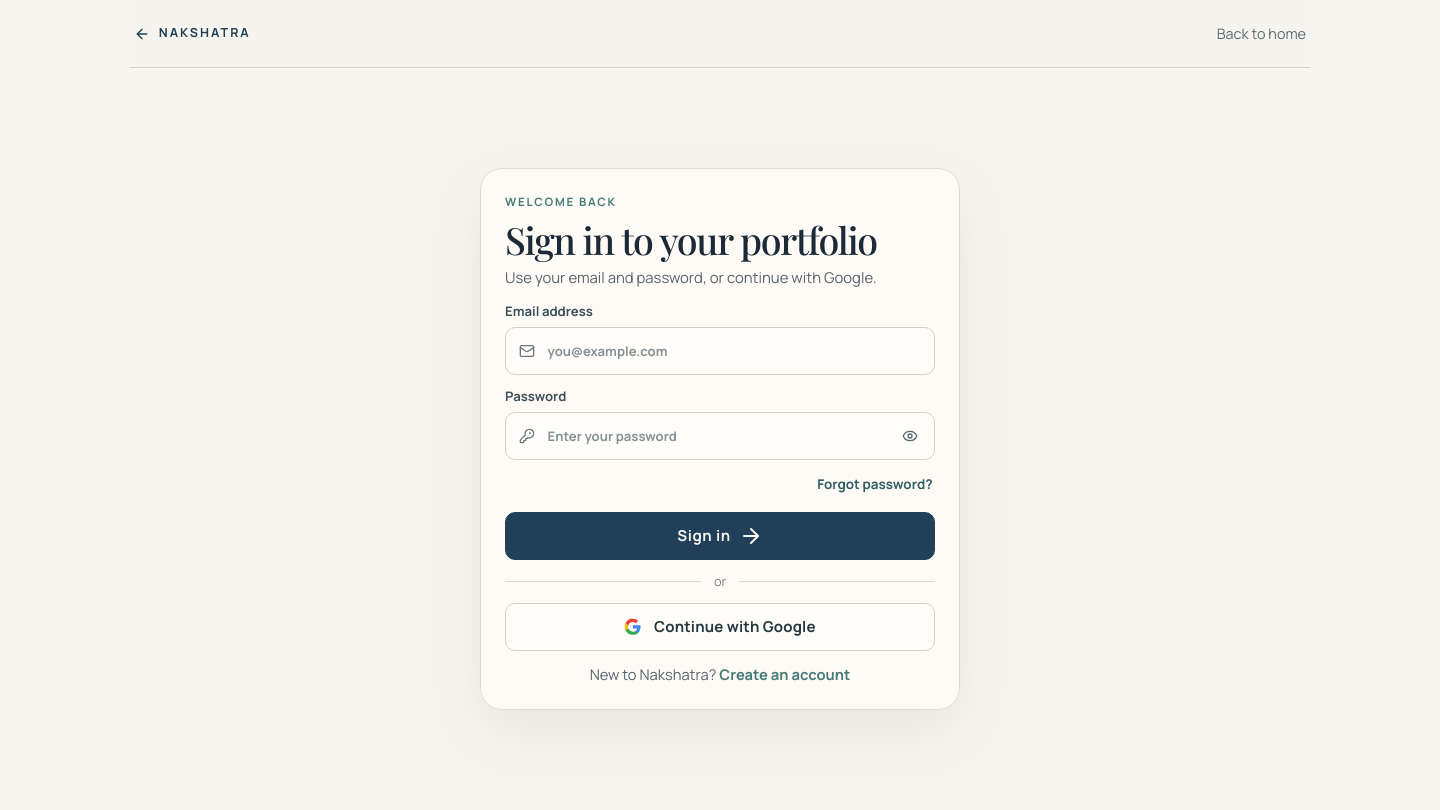
Test: AuthForm › requests password recovery without revealing whether an account exists
Click the button "Forgot password?".
click(875, 484)  # box [815, 468, 935, 500]
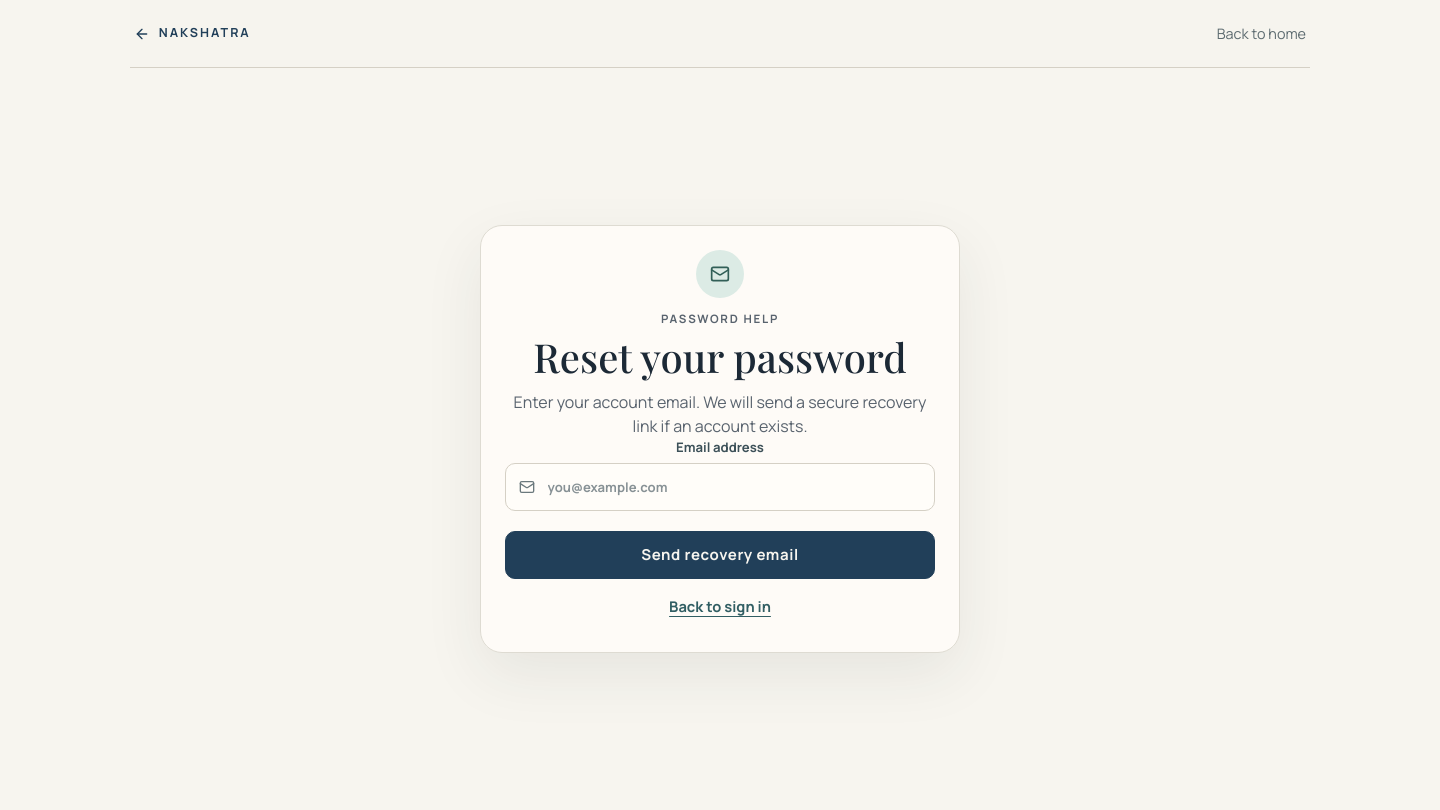
Type "owner@example.com" into the field labelled "Email address".
click(720, 487); type("owner@example.com")  # box [505, 463, 935, 511]
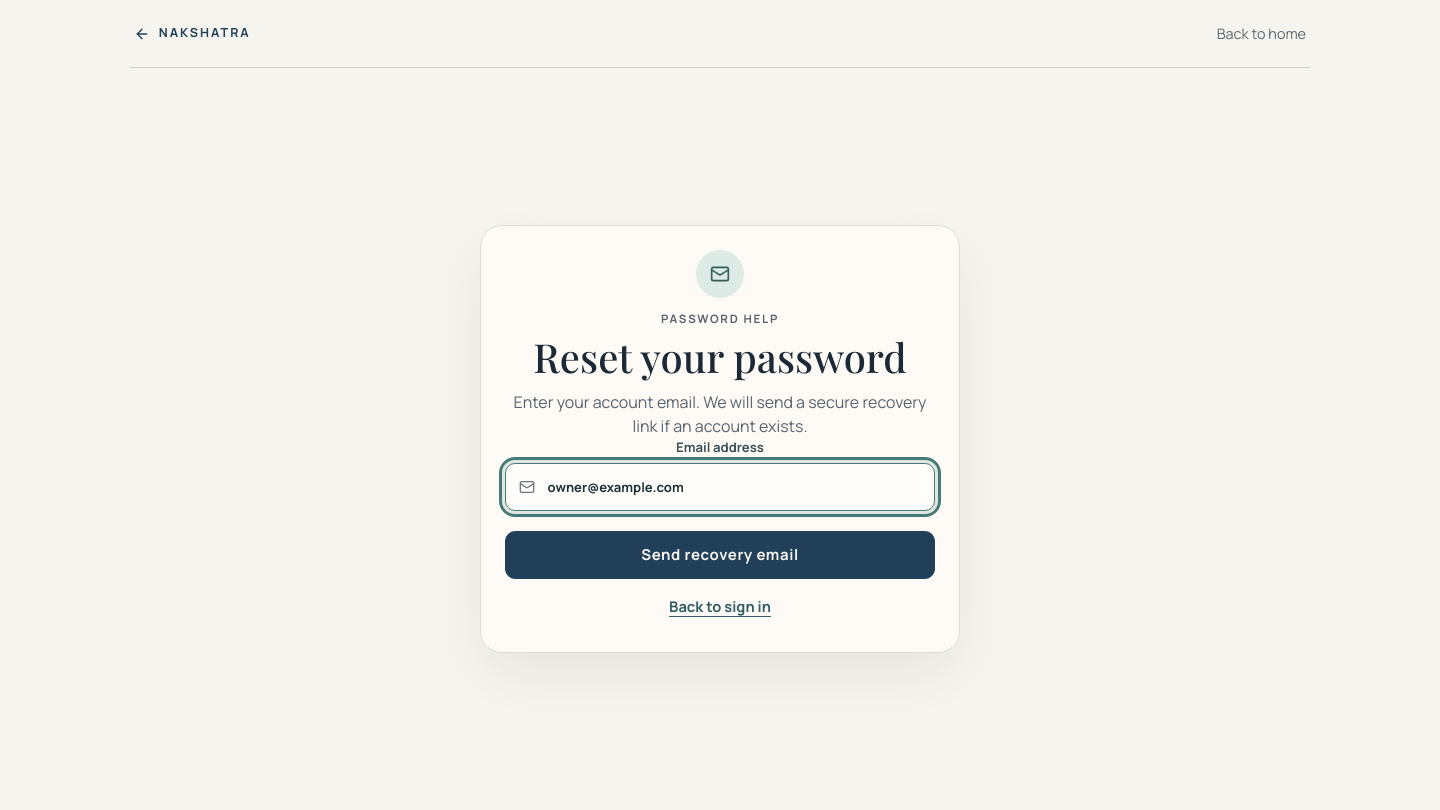
Click the button "Send recovery email".
click(720, 555)  # box [505, 531, 935, 579]
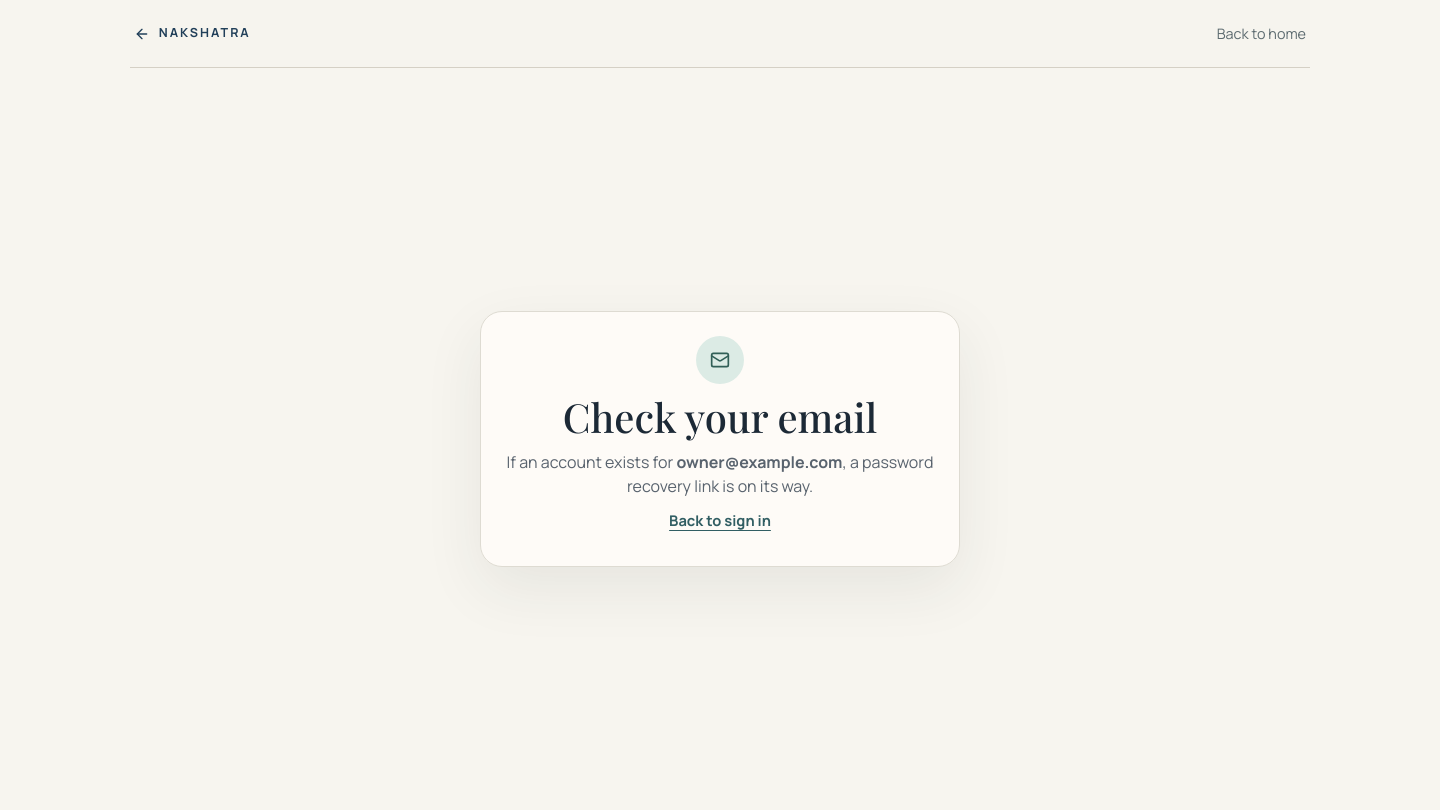
Now the text "If an account exists" is shown, box [507, 451, 676, 473]
Now the heading "Check your email" is shown, box [563, 390, 877, 443]
